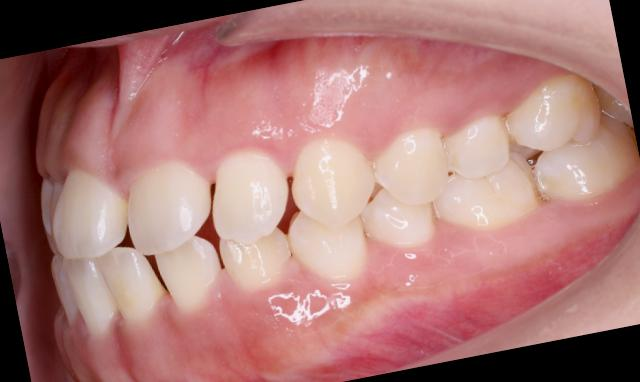canine class III 1/2: (198, 121, 398, 308)
molar class III full class: (414, 58, 640, 247)
